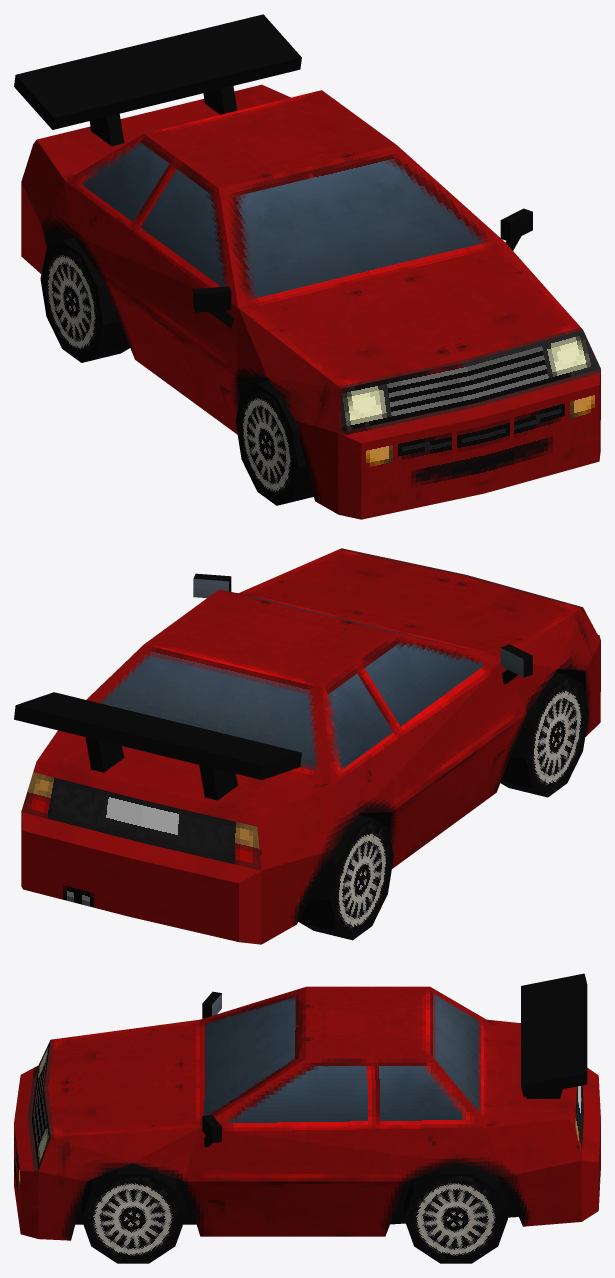
Rendered from drift.glb.
3 renders of one model, top to bottom at view 1: azimuth 30°, elevation 25°; view 2: azimuth 150°, elevation 25°; view 3: azimuth 270°, elevation 25°, orthographic. The views are drawn at different scales.
Visible parts, largest first — view 1: body, wheel_rear_right, wheel_front_right; view 2: body, wheel_rear_right, wheel_front_right; view 3: body, wheel_rear_left, wheel_front_left.
Part boxes in pixels (bbox=[...]): body: bbox=[14, 14, 600, 519]; wheel_rear_right: bbox=[40, 237, 129, 362]; wheel_front_right: bbox=[235, 380, 313, 505]; body: bbox=[14, 548, 600, 944]; wheel_rear_right: bbox=[298, 814, 393, 940]; wheel_front_right: bbox=[500, 672, 588, 797]; body: bbox=[14, 973, 600, 1240]; wheel_rear_left: bbox=[404, 1163, 507, 1263]; wheel_front_left: bbox=[81, 1163, 185, 1263].
Size of the model in its own units: 2.09 by 1.3 by 3.8.
1 material, 1 textured.
